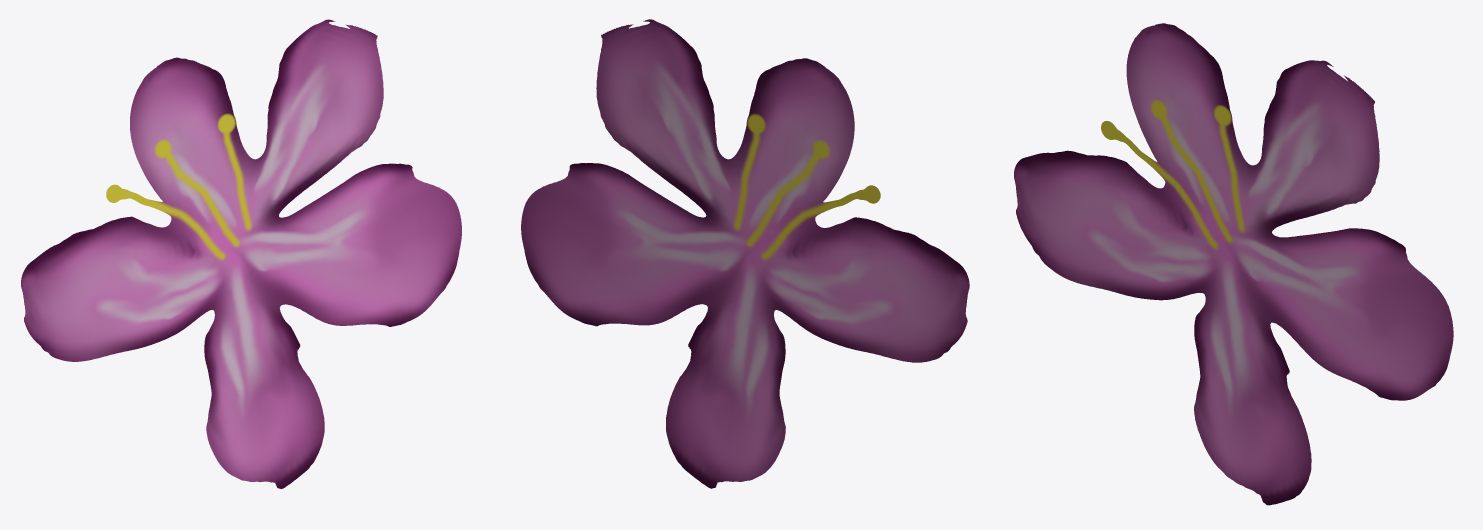
The model's file is hole.obj.
3 renders of one model, left to right at view 1: azimuth 30°, elevation 25°; view 2: azimuth 150°, elevation 25°; view 3: azimuth 330°, elevation 25°, orthographic. The views are drawn at different scales.
Visible parts, largest first — view 1: Cylinder_Cylinder.001; view 2: Cylinder_Cylinder.001; view 3: Cylinder_Cylinder.001.
Boxes of the visible parts, left/top/right/bottom form: Cylinder_Cylinder.001: left=21, top=19, right=461, bottom=489; Cylinder_Cylinder.001: left=521, top=19, right=969, bottom=488; Cylinder_Cylinder.001: left=1014, top=23, right=1453, bottom=505.
Bounding box in the file's own units: 2 × 2 × 0.0515.
